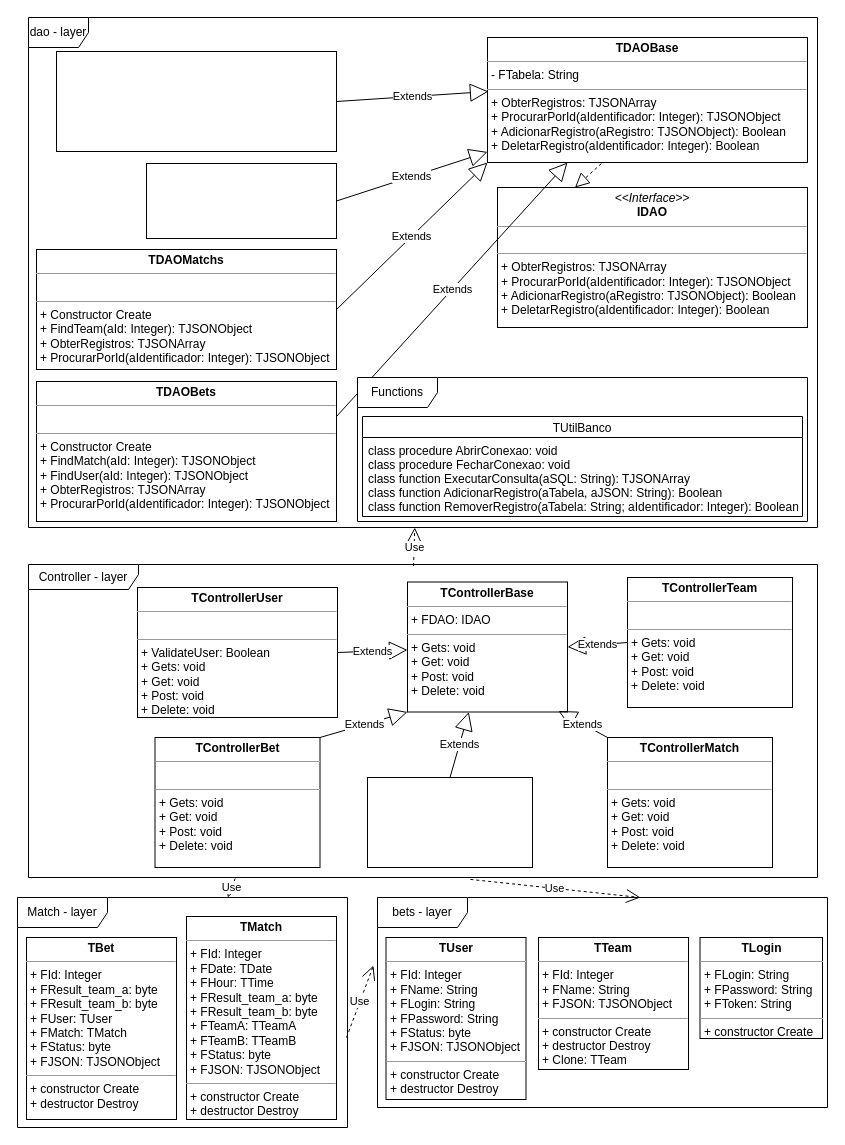
Image size: 845x1145. Some labels were removed from this diagram. The shapes that lost their labels are listed below. From the top down, each one's centre as x and y in pixels, then its label:
At point 196,101: "TDAOUser + ValidarLogin(aUser, aPassword: String): Integer + Constructor Create".
At point 241,200: "TDAOTeams + Constructor Create".
At point 449,822: "TControllerLogin + PostLogin: void".
